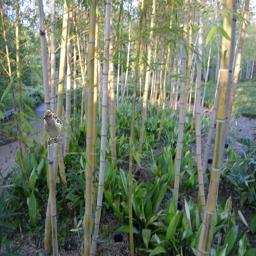Sparrow: (43, 110, 63, 146)
